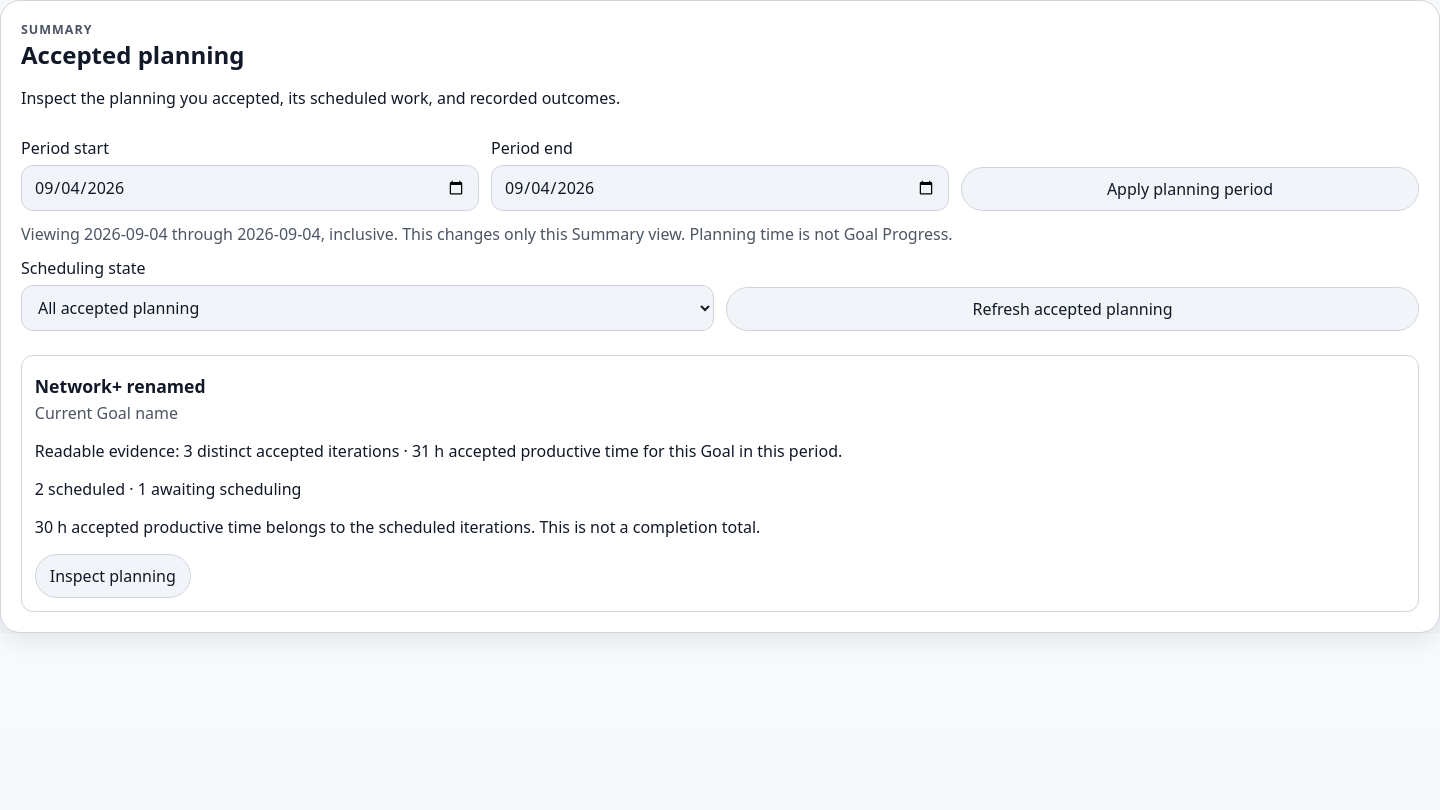
Test: shows corrected actual without converting duration to Progress
Click the button named "Inspect planning:": (113, 576) [35, 554, 191, 598]
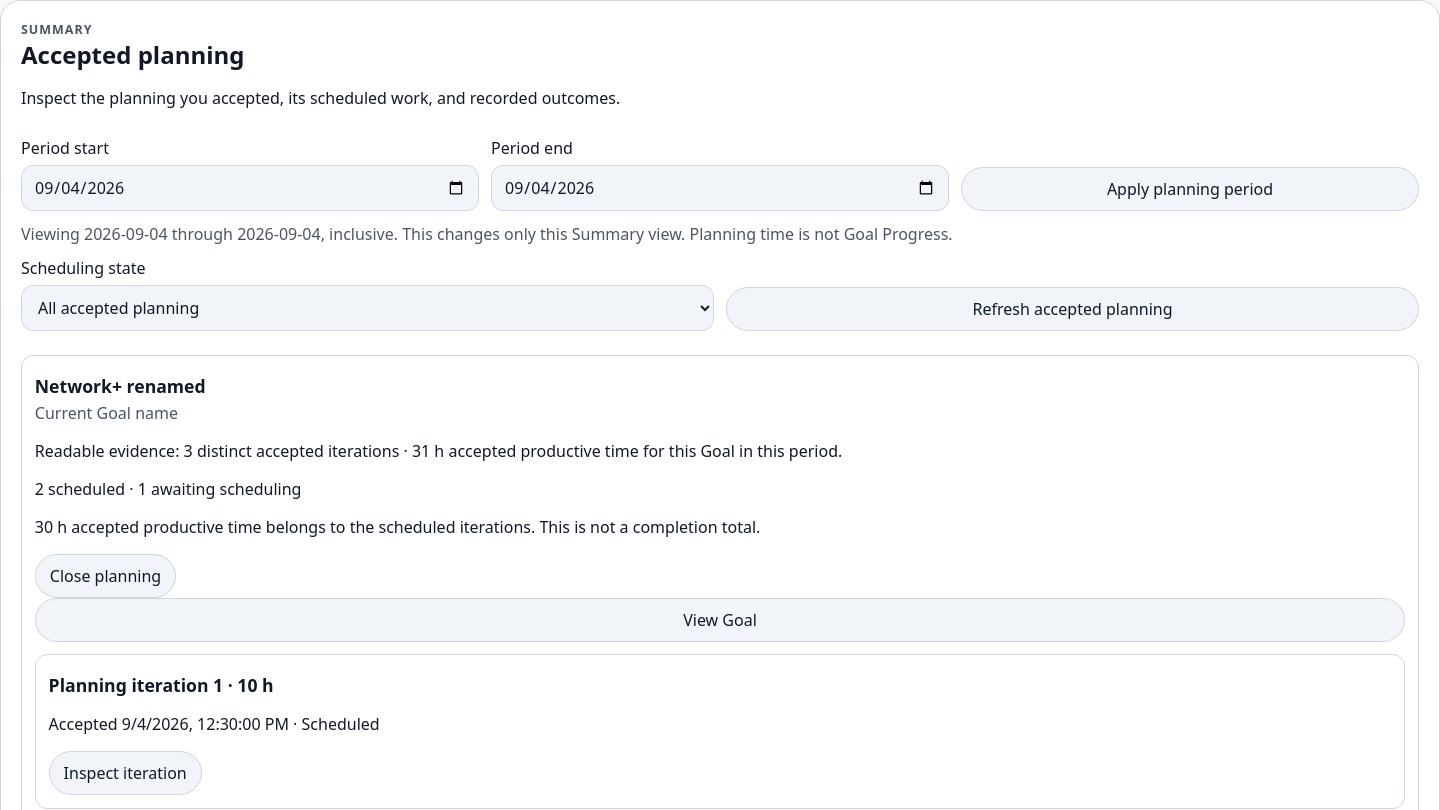
Click the button with aria-label "Inspect iteration 1": (125, 773) [49, 751, 202, 795]
(page scrolled)
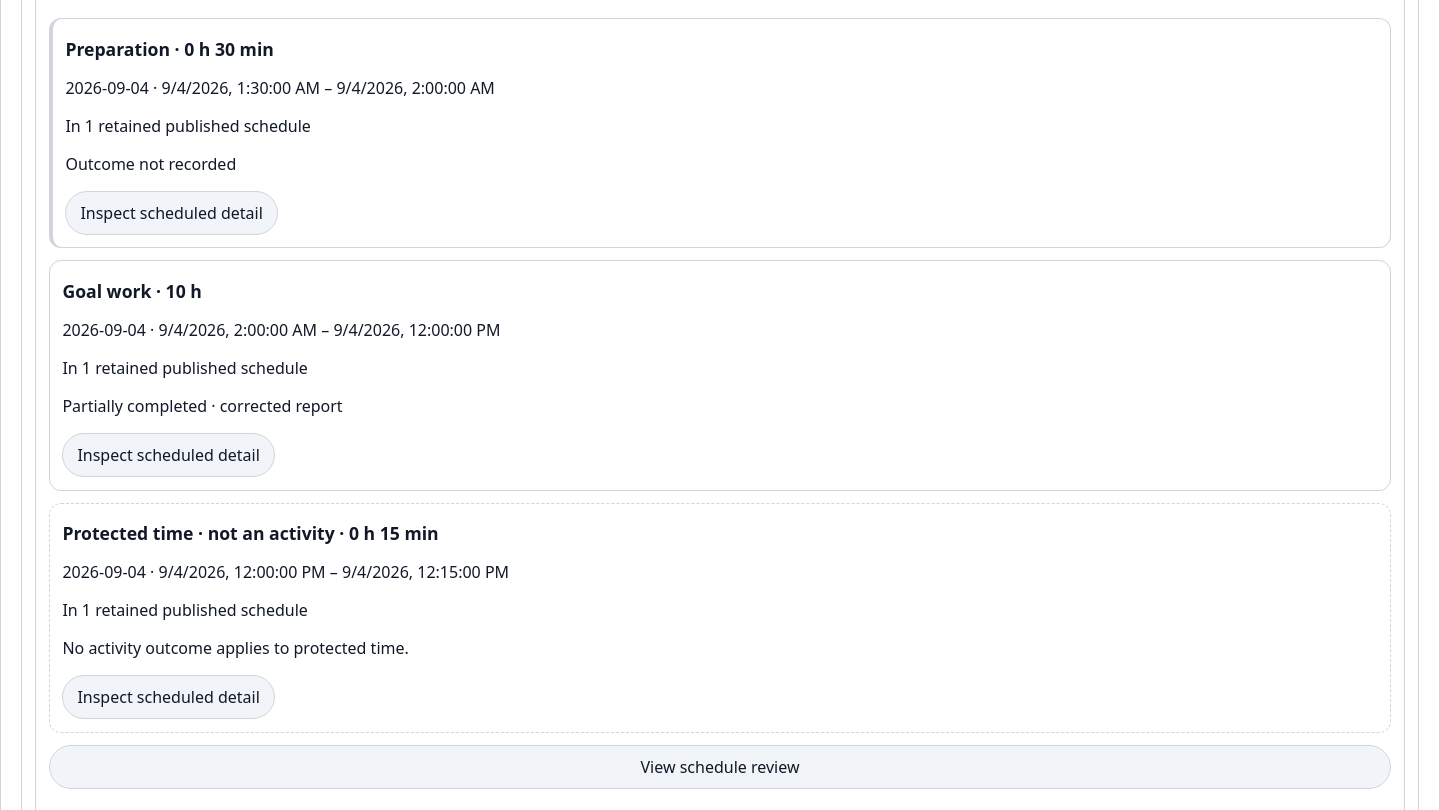
Expected: the text "Partially completed · corrected report" is shown, [62, 395, 343, 417]
